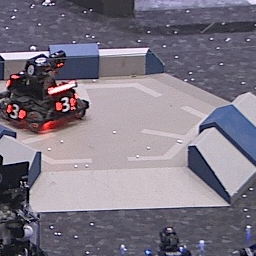Red: (5, 103, 24, 121), (55, 98, 77, 113)
Robot: (1, 51, 87, 131), (1, 151, 53, 255)
